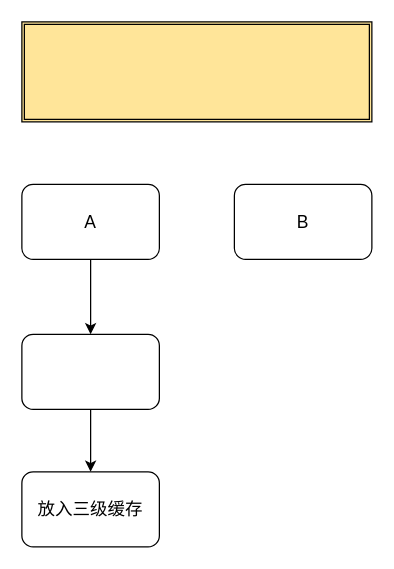
This 394x569 diagram has some shape labels left out. The shapes that lost their labels are listed below. From the top down, each one's box as (x1, y1, x2, y2) in pixels, then its label:
(21, 21, 372, 122): A依赖B, B依赖A, 无Aop
(21, 333, 159, 409): 实例化A new A()
